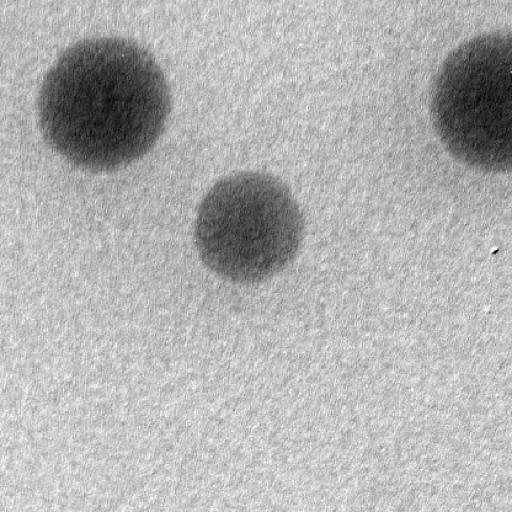Nanoparticles: (34, 36, 174, 168), (191, 171, 305, 282), (430, 30, 512, 174)
